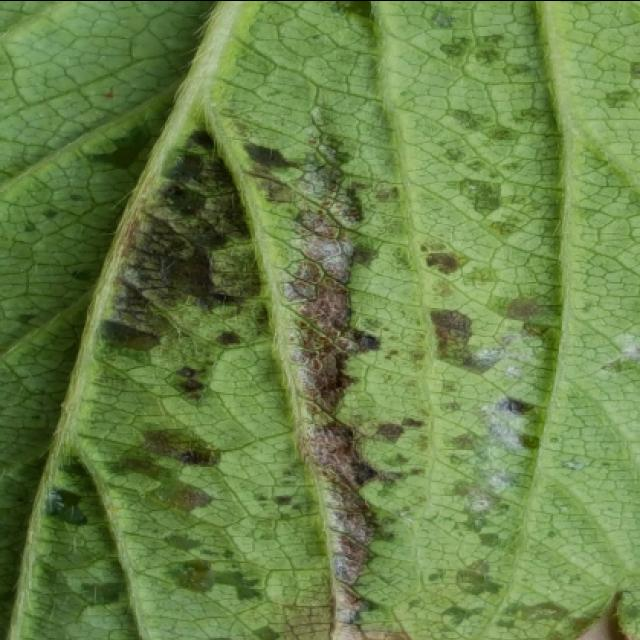Angular Leafspot: (0, 0, 638, 638)
